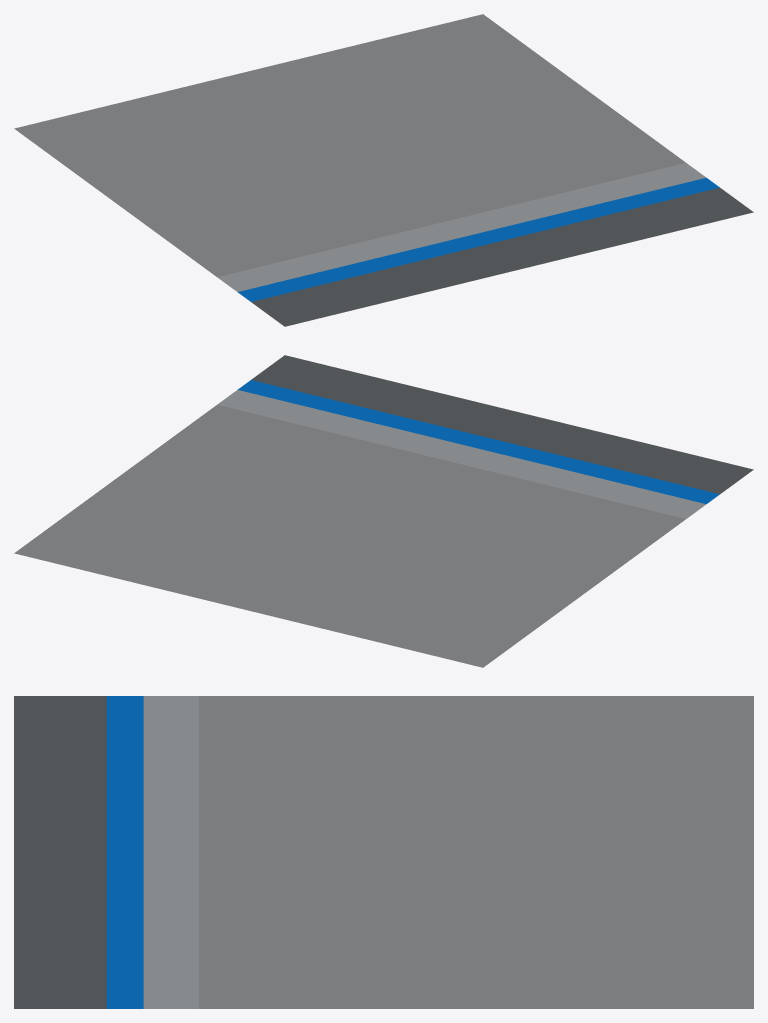
Rendered from Ceiling_type_B_015.fbx.
The picture shows the model from 3 angles, top to bottom: view 1: azimuth 30°, elevation 25°; view 2: azimuth 150°, elevation 25°; view 3: azimuth 270°, elevation 25°; orthographic projection. The views are drawn at different scales.
Visible parts, largest first — view 1: Ceiling_type_B_015; view 2: Ceiling_type_B_015; view 3: Ceiling_type_B_015.
Boxes of the visible parts, x1,y1,x2,y2 form: Ceiling_type_B_015: (14, 14, 753, 326); Ceiling_type_B_015: (14, 355, 753, 667); Ceiling_type_B_015: (14, 696, 753, 1008).
Size of the model in its own units: 400 by 400 by 5.7.
